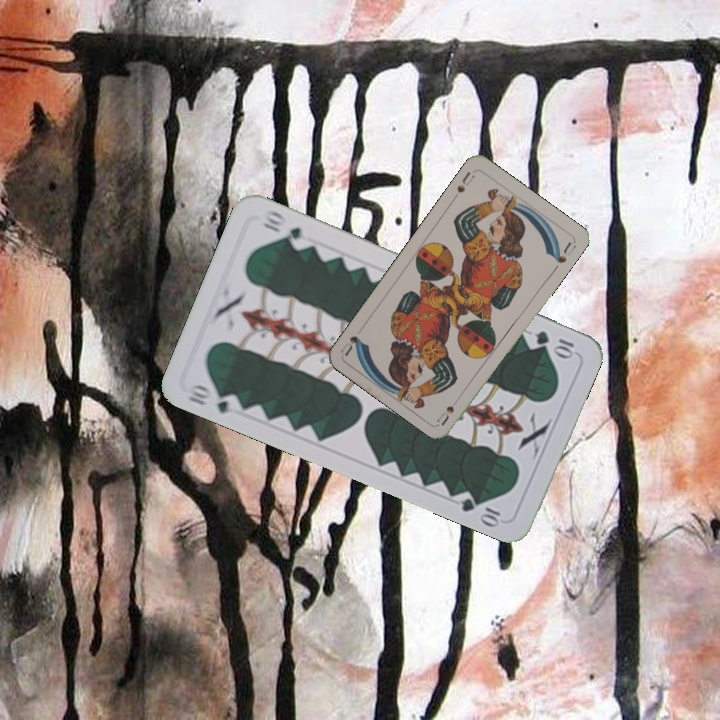G10: (183, 379, 243, 417), (530, 326, 578, 360)
SU: (433, 390, 465, 427), (453, 167, 478, 196)
